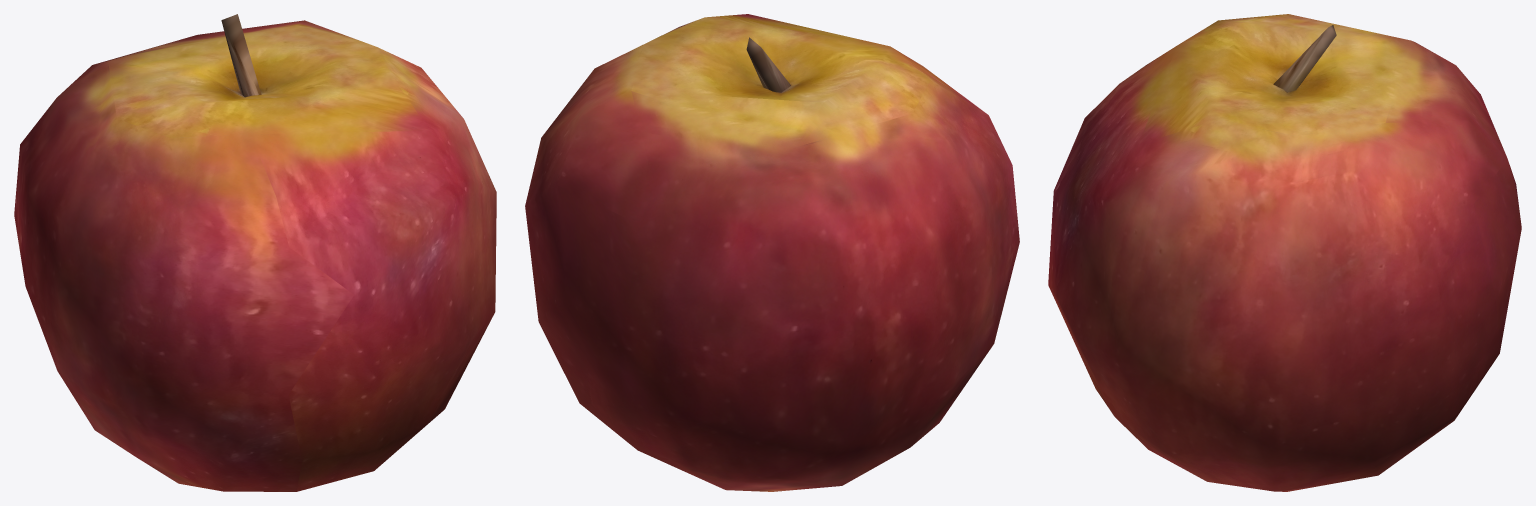
Rendered from apple.fbx.
3 views of the same model, side by side, from view 1: azimuth 30°, elevation 25°; view 2: azimuth 150°, elevation 25°; view 3: azimuth 270°, elevation 25° (orthographic).
Parts seen in each view (by area): view 1: App1; view 2: App1; view 3: App1.
Part boxes in pixels (x1,y1,x2,y2): App1: (14, 14, 496, 491); App1: (525, 14, 1019, 491); App1: (1048, 14, 1521, 491).
Bounding box in the file's own units: 10.19 × 10.54 × 10.22.
